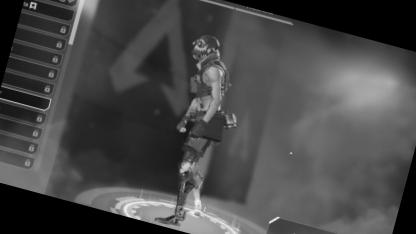Target: (153, 29, 251, 198)
